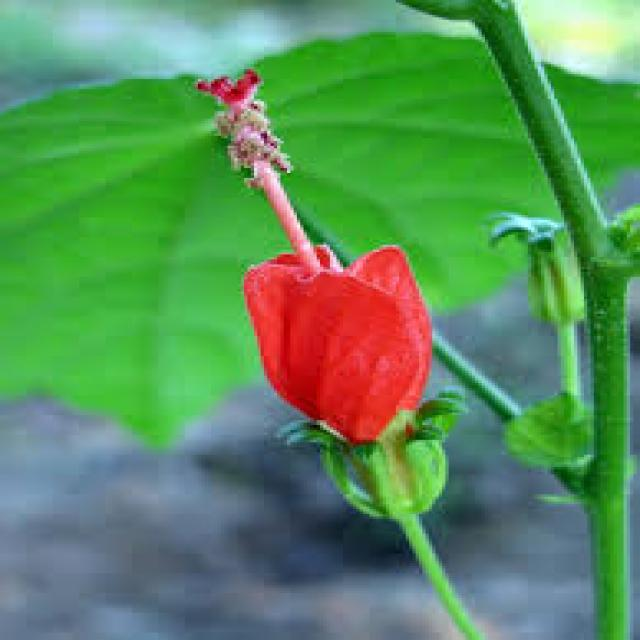Flower: (109, 40, 521, 633)
